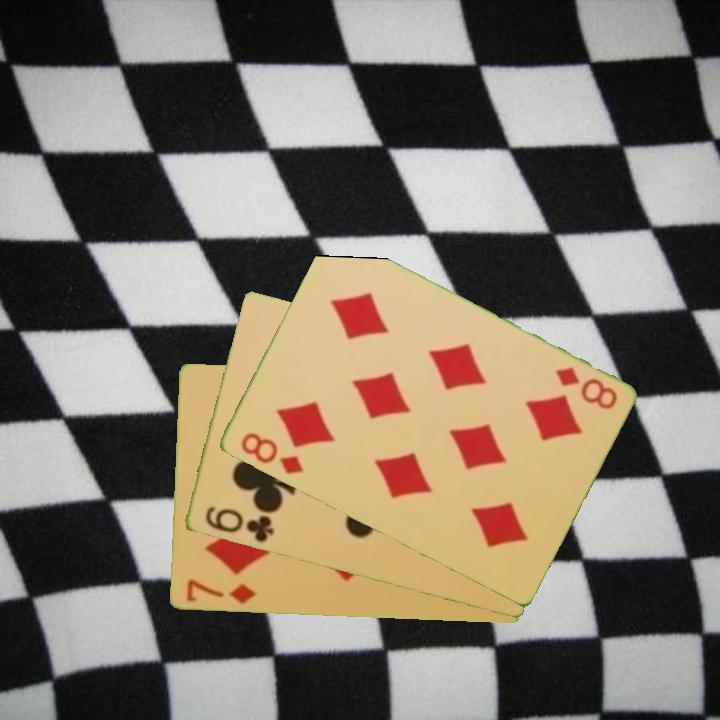6c: (201, 502, 277, 546)
7d: (182, 576, 258, 607)
8d: (551, 363, 620, 413), (236, 429, 306, 478)
